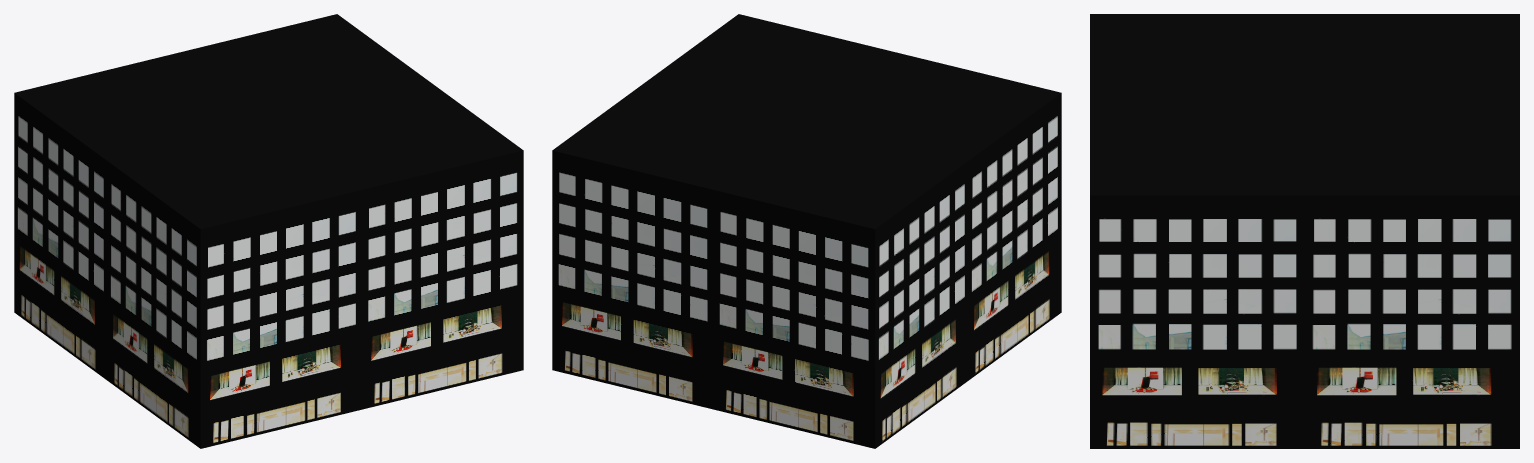
Rendered from building8.FBX.
The picture shows the model from 3 angles, left to right: view 1: azimuth 30°, elevation 25°; view 2: azimuth 150°, elevation 25°; view 3: azimuth 270°, elevation 25°; orthographic projection. The views are drawn at different scales.
Parts seen in each view (by area): view 1: Box001; view 2: Box001; view 3: Box001.
Part boxes in pixels (x1=…): Box001: x1=14, y1=14, x2=523, y2=448; Box001: x1=552, y1=14, x2=1061, y2=448; Box001: x1=1090, y1=14, x2=1519, y2=448.
Size of the model in its own units: 90 by 58.49 by 90.
